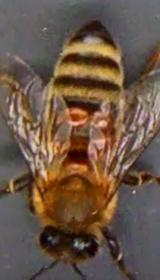varroa_mite: (63, 106, 97, 128)
